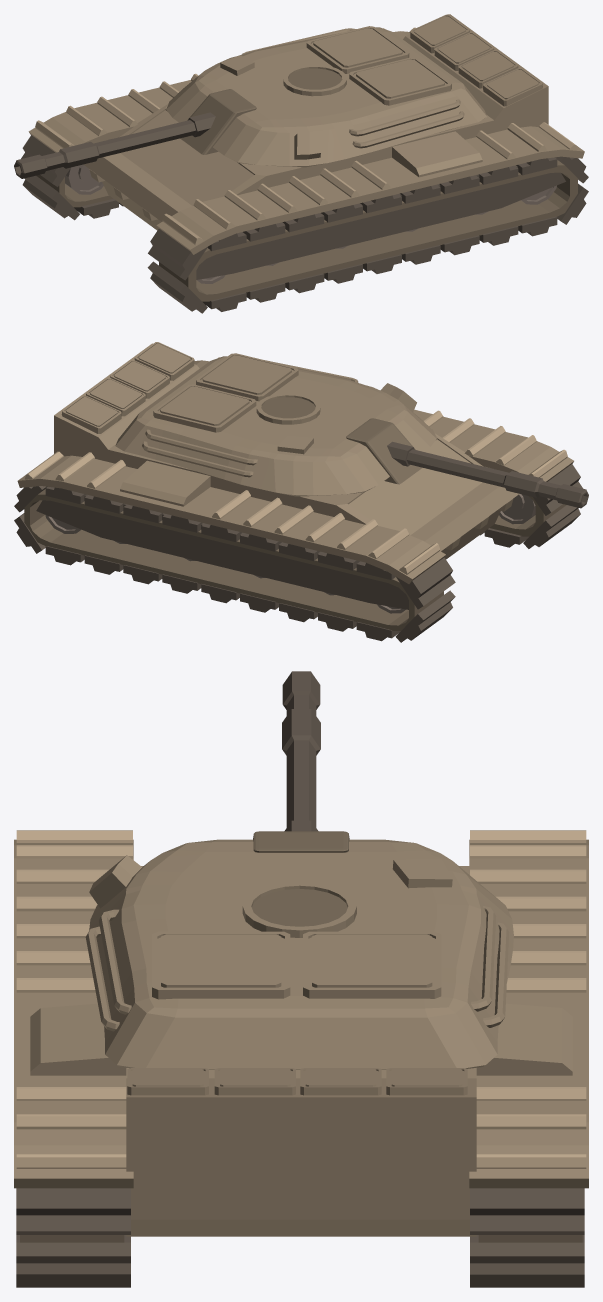
Rendered from gibs.fbx.
3 views of the same model, one above another, from view 1: azimuth 30°, elevation 25°; view 2: azimuth 150°, elevation 25°; view 3: azimuth 270°, elevation 25° (orthographic). The views are drawn at different scales.
Parts seen in each view (by area): view 1: Tank_Turret, Tank_body.040, Tank_body, Tank_body.002, Tank_body.026, Tank_Gun, Tank_body.014, Tank_Turret.005, Tank_Turret.004, Tank_body.003, Tank_Turret.001, Tank_Turret.003 (+39 smaller); view 2: Tank_Turret, Tank_body.040, Tank_body.001, Tank_body.014, Tank_body.027, Tank_Gun, Tank_body.002, Tank_Turret.004, Tank_Turret.005, Tank_body.015, Tank_Turret.001, Tank_Turret.003 (+39 smaller); view 3: Tank_Turret, Tank_body.040, Tank_body.014, Tank_body.002, Tank_Turret.005, Tank_Turret.004, Tank_body.003, Tank_body.015, Tank_Gun, TrackMesh.L.009, TrackMesh.R.009, TrackMesh.L.010 (+35 smaller).
Part boxes in pixels (x1,y1,x2,y2): Tank_Turret: (166, 27, 486, 167); Tank_body.040: (83, 14, 548, 230); Tank_body: (159, 160, 577, 301); Tank_body.002: (156, 126, 584, 254); Tank_body.026: (196, 165, 565, 279); Tank_Gun: (14, 112, 215, 178); Tank_body.014: (28, 31, 410, 152); Tank_Turret.005: (349, 57, 451, 105); Tank_Turret.004: (306, 26, 409, 73); Tank_body.003: (392, 131, 482, 177); Tank_Turret.001: (180, 89, 256, 154); Tank_Turret.003: (283, 65, 346, 96); Tank_Turret: (115, 356, 436, 496); Tank_body.040: (54, 343, 519, 559); Tank_body.001: (24, 489, 443, 630); Tank_body.014: (17, 455, 445, 584); Tank_body.027: (36, 494, 408, 609); Tank_Gun: (387, 441, 588, 508); Tank_body.002: (194, 360, 573, 481); Tank_Turret.004: (153, 384, 256, 432); Tank_Turret.005: (196, 353, 298, 401); Tank_body.015: (120, 460, 210, 506); Tank_Turret.001: (346, 418, 422, 484); Tank_Turret.003: (256, 393, 320, 424); Tank_Turret: (89, 839, 513, 1069); Tank_body.040: (126, 866, 476, 1236); Tank_body.014: (469, 839, 588, 1188); Tank_body.002: (14, 839, 133, 1188); Tank_Turret.005: (152, 931, 290, 999); Tank_Turret.004: (303, 931, 441, 998); Tank_body.003: (30, 1003, 126, 1075); Tank_body.015: (476, 1003, 572, 1075); Tank_Gun: (282, 671, 320, 831); TrackMesh.L.009: (16, 1188, 130, 1234); TrackMesh.R.009: (470, 1188, 584, 1234); TrackMesh.L.010: (16, 1242, 130, 1287).
Bounding box in the file's own units: 1768 × 462 × 1009.
